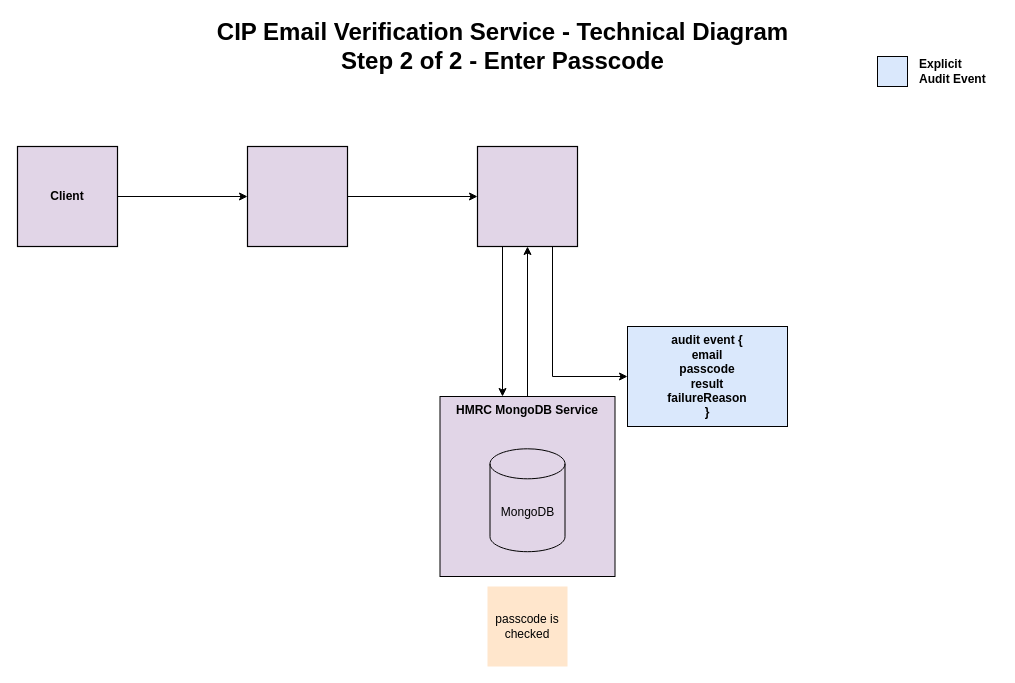
Some shapes in this 1015 by 683 pixel diagram are drawn without their labels. The centre of each missing label's shape, as x and y in pixels:
"CIP Email Service" belongs at [297,196].
"CIP Email Verification Service" belongs at [527,196].
